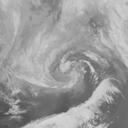cyclone: (44, 42, 110, 96)
